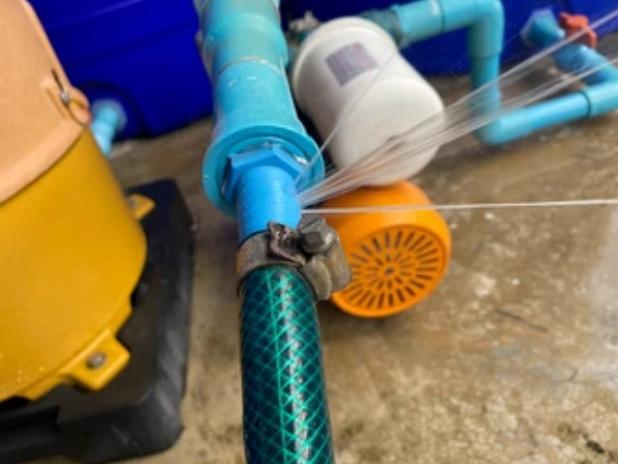pipe burst: (291, 0, 618, 213)
